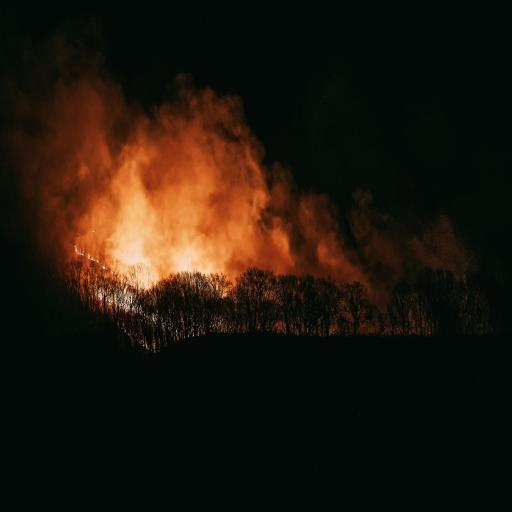wildfire: (0, 52, 512, 404)
